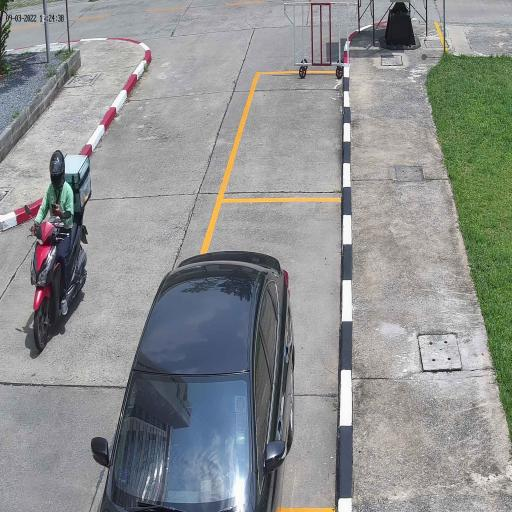car: (98, 248, 296, 512)
motorcycle: (30, 220, 90, 350)
